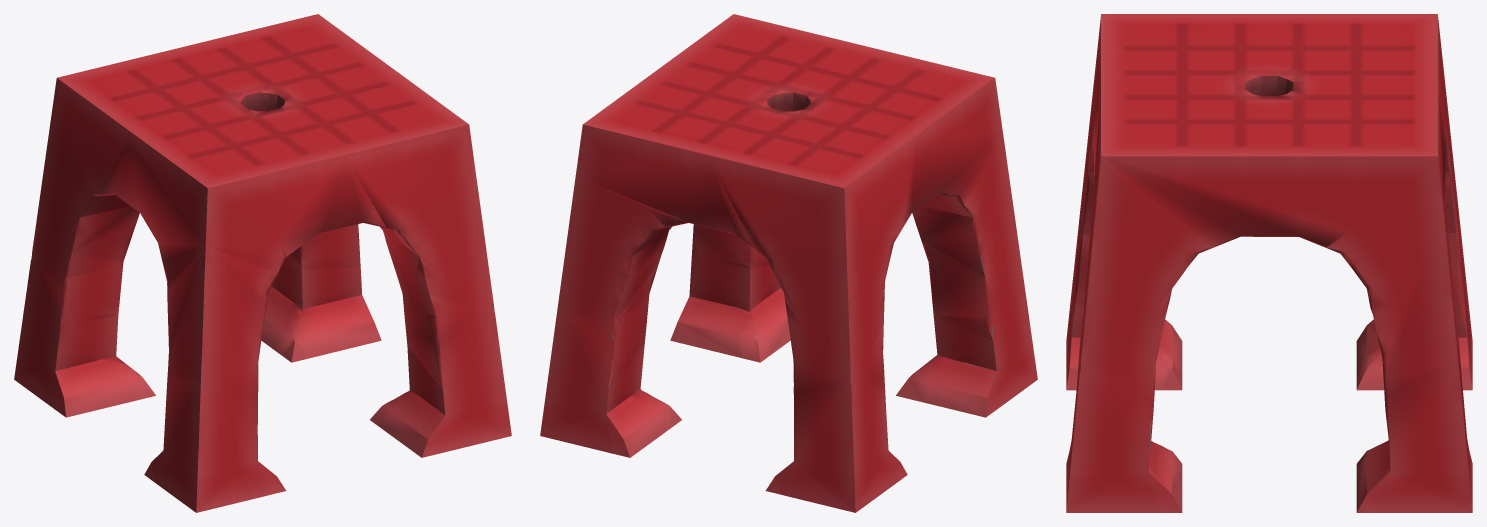
File: ghe_nhua_thap_edits.mid.glb
3 renders of one model, left to right at view 1: azimuth 30°, elevation 25°; view 2: azimuth 150°, elevation 25°; view 3: azimuth 270°, elevation 25°, orthographic. The views are drawn at different scales.
Parts seen in each view (by area): view 1: ghe_nhua_thap_edits; view 2: ghe_nhua_thap_edits; view 3: ghe_nhua_thap_edits.
Boxes of the visible parts, x1=… form: ghe_nhua_thap_edits: x1=14, y1=14, x2=511, y2=512; ghe_nhua_thap_edits: x1=540, y1=14, x2=1037, y2=512; ghe_nhua_thap_edits: x1=1066, y1=14, x2=1472, y2=512.
Size of the model in its own units: 0.28 by 0.26 by 0.28.
1 material, 1 textured.
